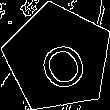O_NW: (27, 26, 89, 90)
